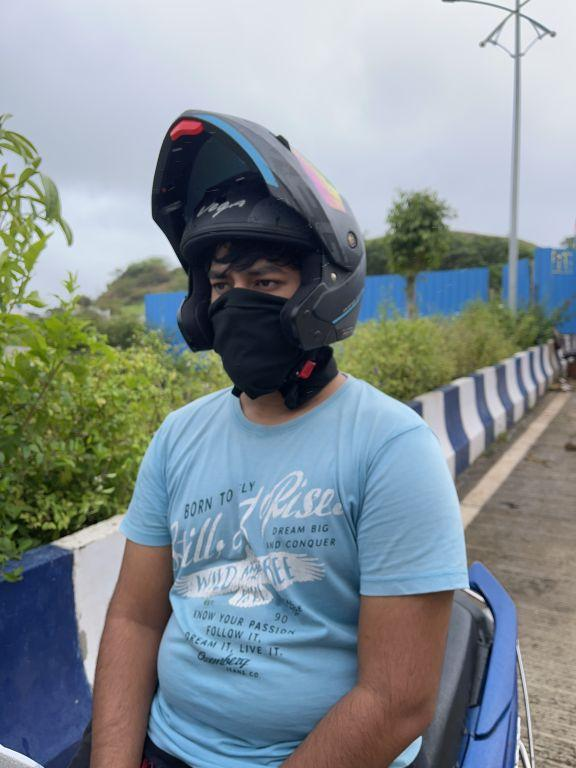helmet: (140, 95, 378, 399)
